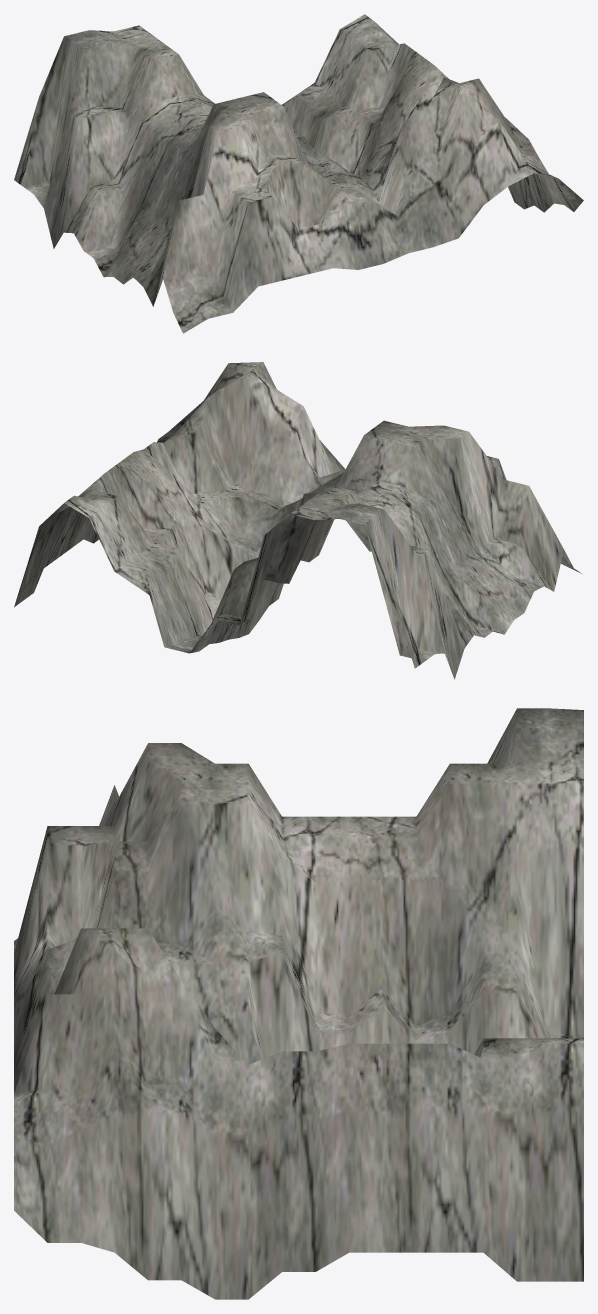
Rendered from DWARF_PALACE_GEAR_ROOM_CELLINGB.fbx.
The picture shows the model from 3 angles, top to bottom: view 1: azimuth 30°, elevation 25°; view 2: azimuth 150°, elevation 25°; view 3: azimuth 270°, elevation 25°; orthographic projection. The views are drawn at different scales.
Parts seen in each view (by area): view 1: DWARF_PALACE_GEAR_ROOM_CELLINGB; view 2: DWARF_PALACE_GEAR_ROOM_CELLINGB; view 3: DWARF_PALACE_GEAR_ROOM_CELLINGB.
Boxes of the visible parts, box(x1,y1,x2,y2) form: DWARF_PALACE_GEAR_ROOM_CELLINGB: box(14, 14, 583, 333); DWARF_PALACE_GEAR_ROOM_CELLINGB: box(14, 362, 581, 679); DWARF_PALACE_GEAR_ROOM_CELLINGB: box(14, 708, 583, 1299).
Size of the model in its own units: 302974 by 141917 by 221452.
1 material, 1 textured.
